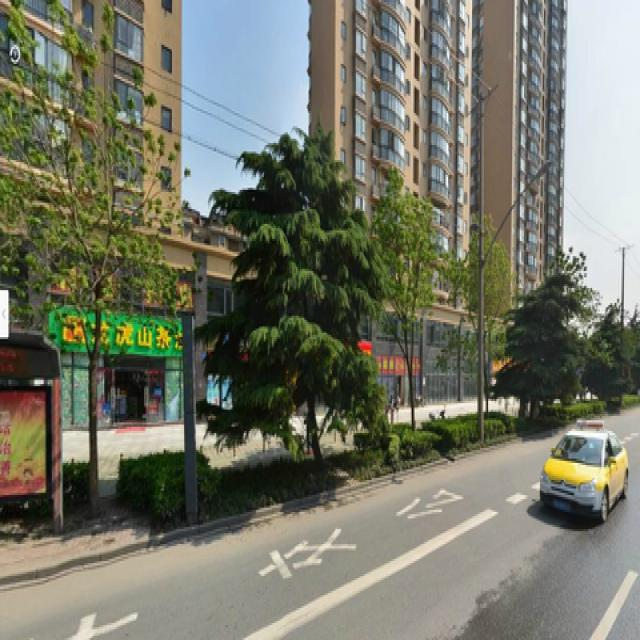cedr: (234, 138, 366, 474)
